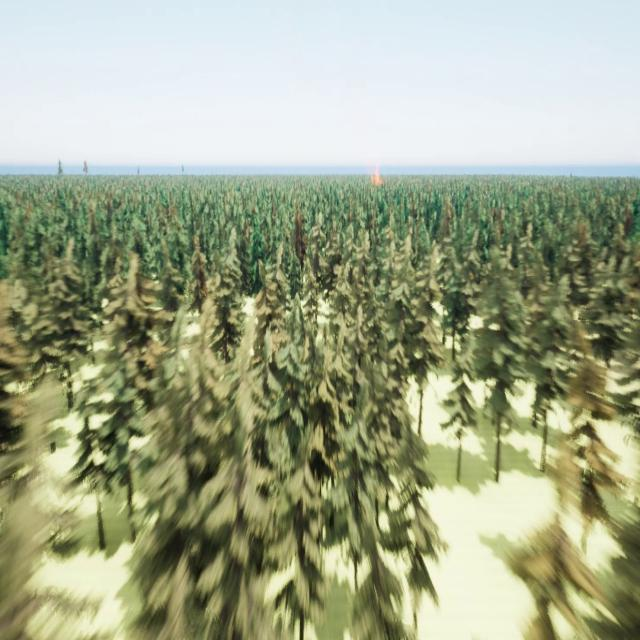fire: (370, 161, 384, 190)
